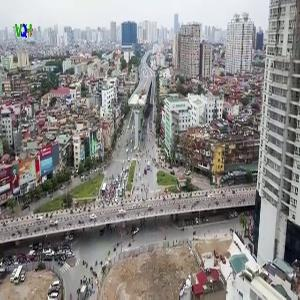drone: (131, 93, 174, 136)
